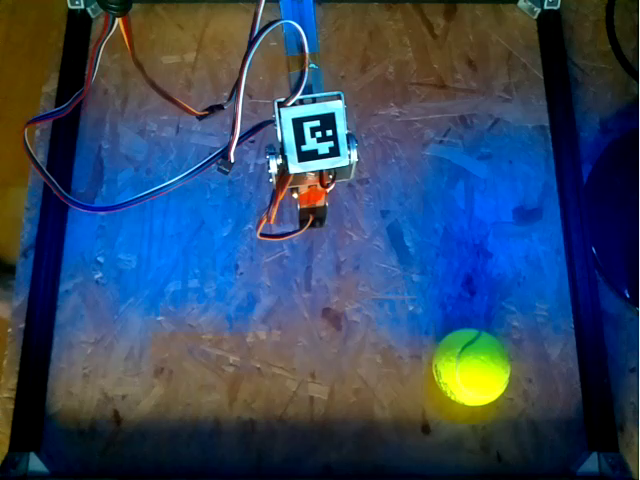tennis_ball: (430, 329, 511, 406)
